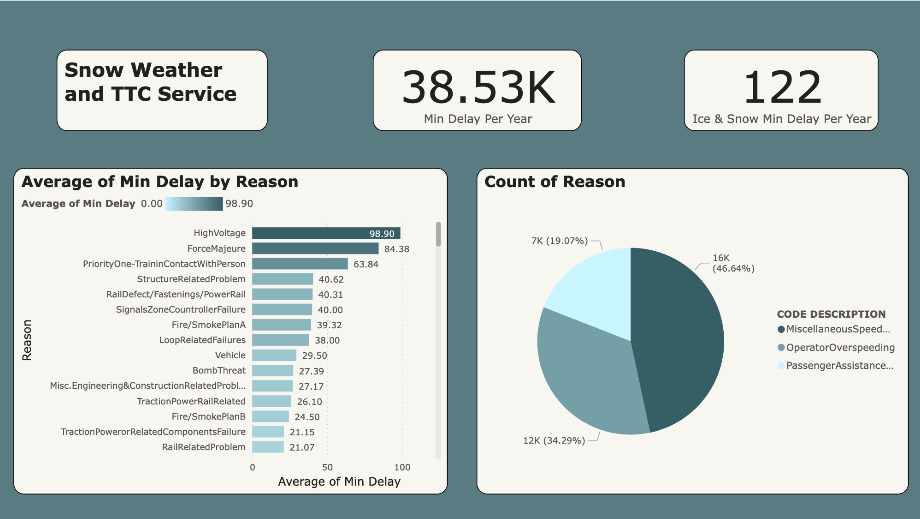

The page's visual inventory and layout, read from the dashboard file:
{"tool":"powerbi","page":{"name":"Page 1","canvas":[1280,720],"ordinal":0},"visuals":[{"type":"clusteredBarChart","title":"Average of Min Delay by Reason","fields":{"Category":["full_data.CODE DESCRIPTION"],"Y":["Avg(full_data.Min Delay)"]},"box":[19.5,232.3,603,453.1],"z":0},{"type":"card","fields":{"Values":["full_data.Ice & Snow Delay"]},"box":[951.4,68.3,269.6,112.6],"z":1000},{"type":"card","fields":{"Values":["full_data.Min Delay Per Year"]},"box":[518.7,68.3,290,112.6],"z":2000},{"type":"pieChart","title":"Count of Reason ","fields":{"Category":["full_data.CODE DESCRIPTION"],"Y":["full_data.Count of Reason"]},"box":[663.3,231.7,600,453.3],"z":3000},{"type":"textbox","box":[79.8,68.3,292.6,112.6],"z":4000}]}

Visuals, with their boxes in screenshot pixels (x1, y1, x2, y2), scaled from the page's 1280x720 canvas onto the 920x519 screenshot:
"Average of Min Delay by Reason" clusteredBarChart: (14,167,447,494)
card - full_data.Ice & Snow Delay: (684,49,878,130)
card - full_data.Min Delay Per Year: (373,49,581,130)
"Count of Reason " pieChart: (477,167,908,494)
textbox: (57,49,268,130)
